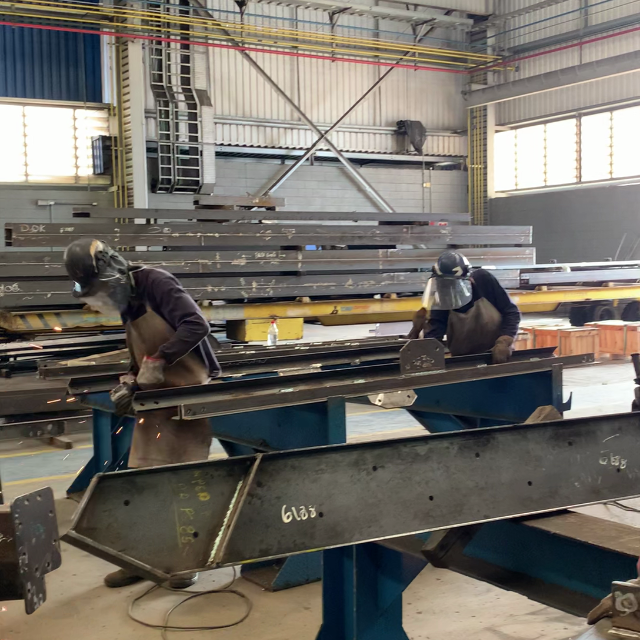face-shield: (75, 282, 130, 318), (424, 279, 472, 309)
glove: (135, 352, 168, 385)
helmet: (64, 238, 113, 278), (434, 249, 472, 275)
person: (63, 239, 221, 384), (421, 249, 523, 363)
safety-shoe: (104, 565, 147, 588)
